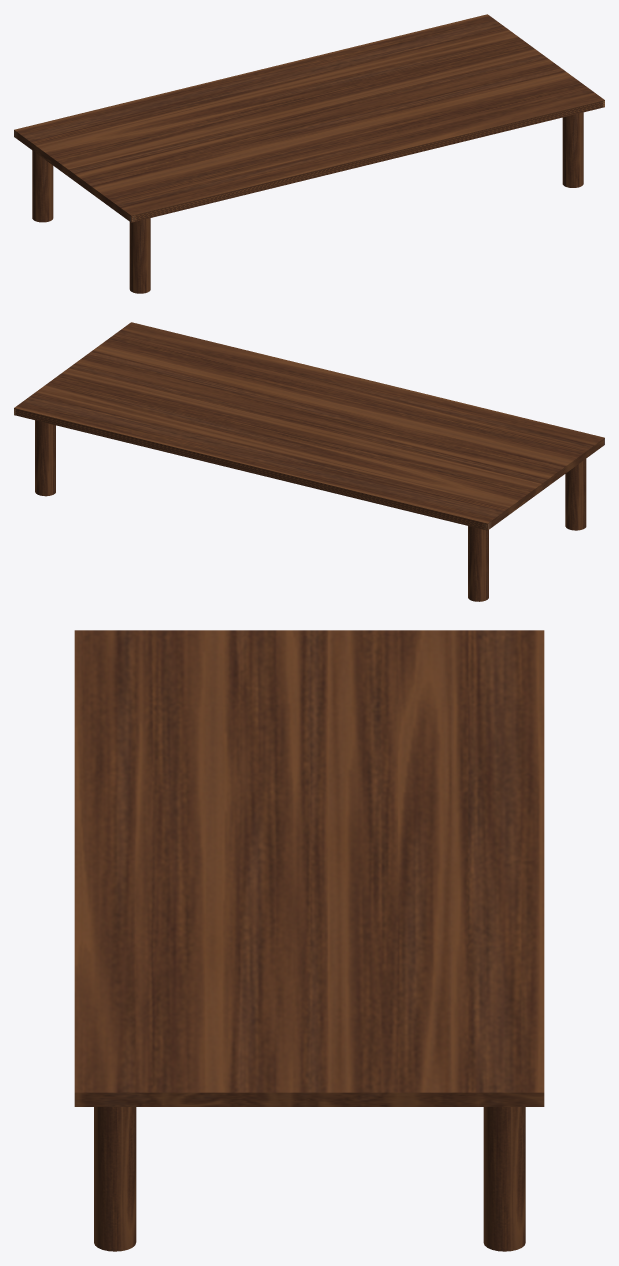
File: Table.fbx
3 renders of one model, top to bottom at view 1: azimuth 30°, elevation 25°; view 2: azimuth 150°, elevation 25°; view 3: azimuth 270°, elevation 25°, orthographic. The views are drawn at different scales.
Parts seen in each view (by area): view 1: pCube1, pCylinder3, pCylinder4, pCylinder1; view 2: pCube1, pCylinder1, pCylinder2, pCylinder3; view 3: pCube1, pCylinder2, pCylinder4.
Boxes of the visible parts, x1,y1,x2,y2 form: pCube1: (14, 14, 604, 222); pCylinder3: (129, 218, 150, 293); pCylinder4: (562, 112, 583, 187); pCylinder1: (32, 150, 53, 222); pCube1: (14, 322, 604, 530); pCylinder1: (468, 526, 488, 601); pCylinder2: (35, 420, 55, 496); pCylinder3: (565, 459, 586, 530); pCube1: (74, 630, 544, 1106); pCylinder2: (483, 1107, 525, 1251); pCylinder4: (94, 1107, 136, 1251).
Size of the model in its own units: 499 by 86.2 by 214.
